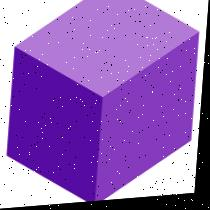cube: (5, 0, 203, 209)
